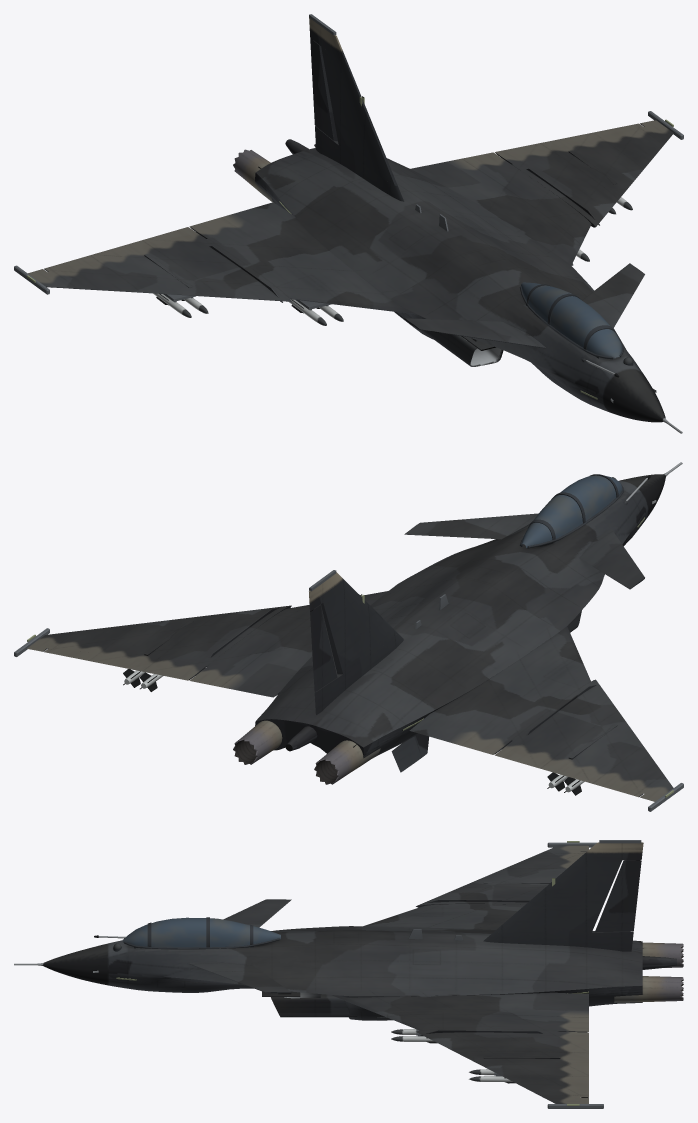
File: vanta-v2-vulture.fbx
The picture shows the model from 3 angles, top to bottom: view 1: azimuth 30°, elevation 25°; view 2: azimuth 150°, elevation 25°; view 3: azimuth 270°, elevation 25°; orthographic projection. The views are drawn at different scales.
Parts seen in each view (by area): view 1: Body, Canopy, Elevator_L, Elevator_R, Aileron_L, Aileron_R, Rudder; view 2: Body, Canopy, Elevator_R, Elevator_L, Aileron_L, Aileron_R, Rudder; view 3: Body, Canopy, Rudder, Elevator_R, Aileron_R, Elevator_L.
Part boxes in pixels (bbox=[...]): Body: bbox=[14, 14, 683, 433]; Canopy: bbox=[521, 282, 622, 358]; Elevator_L: bbox=[404, 318, 545, 348]; Elevator_R: bbox=[582, 263, 644, 328]; Aileron_L: bbox=[44, 227, 205, 271]; Aileron_R: bbox=[495, 123, 642, 164]; Rudder: bbox=[310, 38, 337, 141]; Body: bbox=[14, 462, 683, 811]; Canopy: bbox=[521, 475, 622, 547]; Elevator_R: bbox=[404, 513, 538, 539]; Elevator_L: bbox=[579, 529, 644, 589]; Aileron_L: bbox=[495, 741, 643, 797]; Aileron_R: bbox=[44, 648, 205, 680]; Rudder: bbox=[310, 605, 337, 691]; Body: bbox=[14, 840, 683, 1108]; Canopy: bbox=[122, 917, 280, 947]; Rudder: bbox=[595, 860, 641, 932]; Elevator_R: bbox=[188, 962, 291, 993]; Aileron_R: bbox=[558, 1031, 588, 1097]; Elevator_L: bbox=[223, 899, 291, 927].
Size of the model in its own units: 24.58 by 7.3 by 26.4.
Materials: 1 (1 with a texture image).
